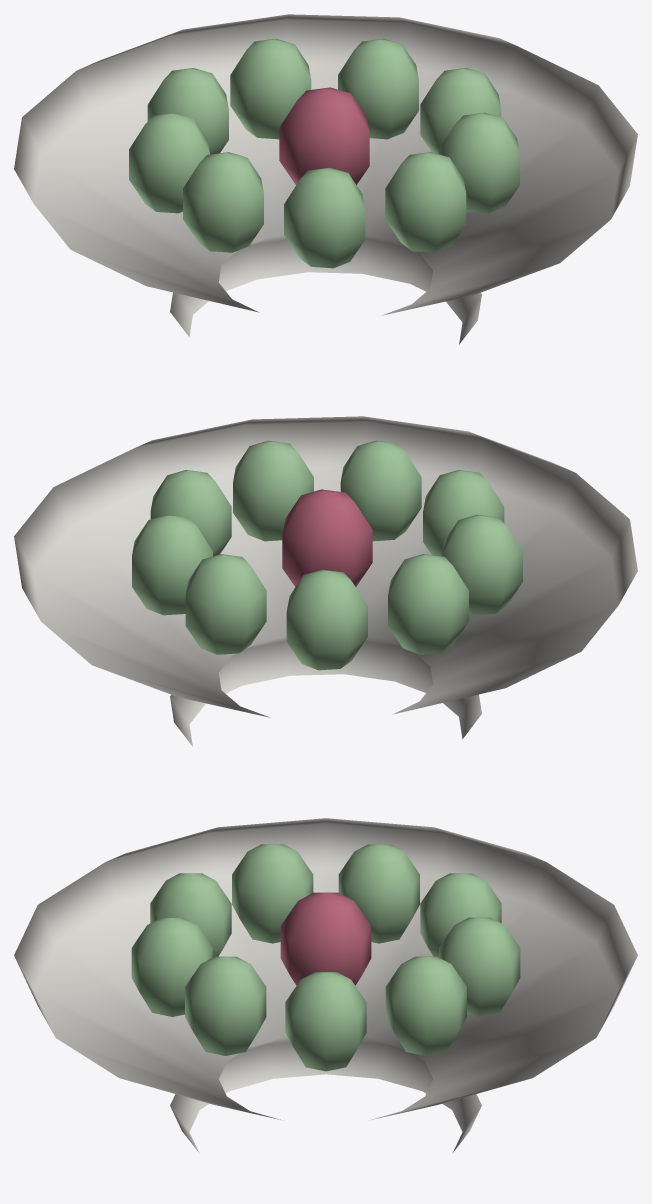
The model's file is mythic-underworld-and-olympus-offering-bowl-marble-d4192ab8__21427.glb.
3 views of the same model, one above another, from view 1: azimuth 30°, elevation 25°; view 2: azimuth 150°, elevation 25°; view 3: azimuth 270°, elevation 25° (orthographic).
Parts seen in each view (by area): view 1: offering-bowl-marble; view 2: offering-bowl-marble; view 3: offering-bowl-marble.
Boxes of the visible parts, x1=… form: offering-bowl-marble: x1=14, y1=14, x2=637, y2=344; offering-bowl-marble: x1=14, y1=416, x2=637, y2=746; offering-bowl-marble: x1=14, y1=818, x2=637, y2=1153.
Bounding box in the file's own units: 0.64 × 0.27 × 0.64.
